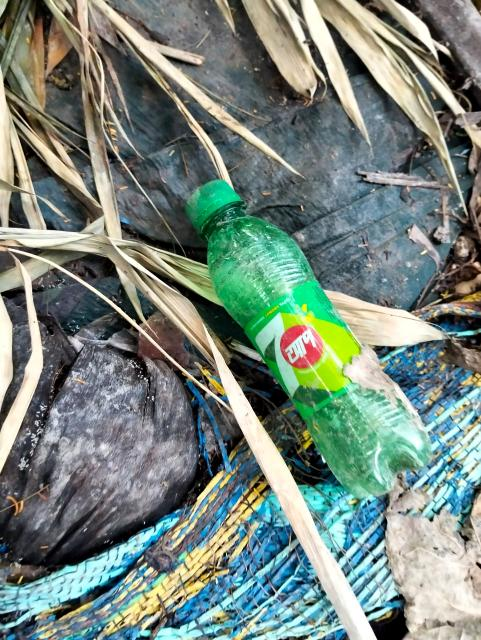bottle: (171, 161, 451, 527)
